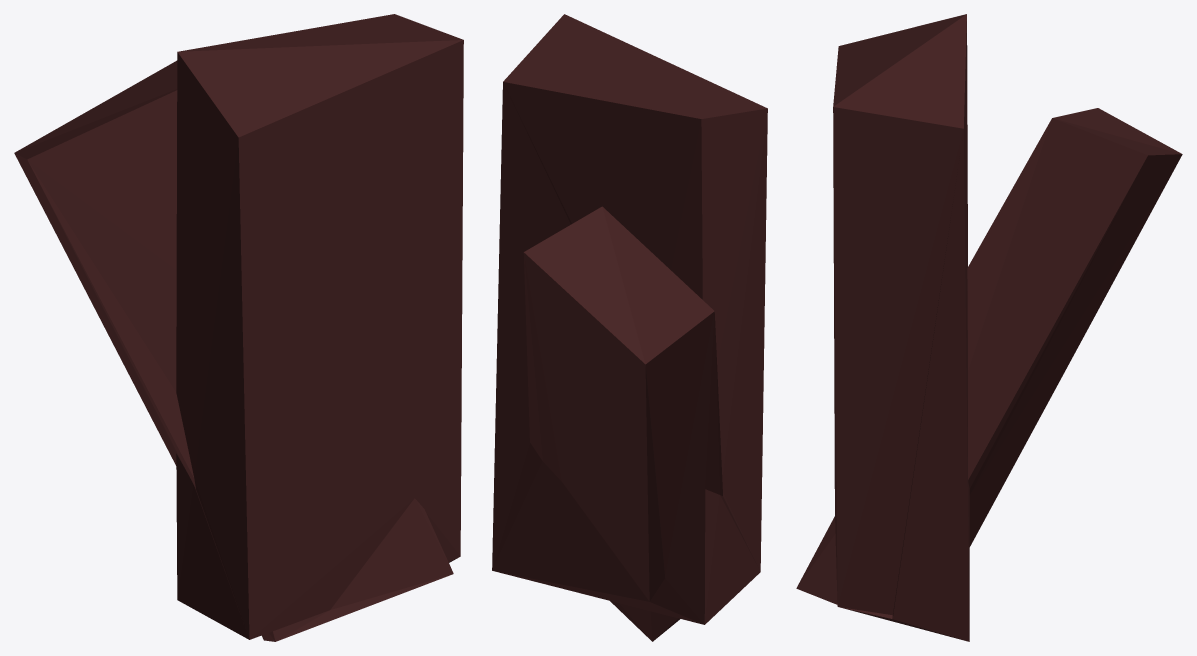
3 views of the same model, side by side, from view 1: azimuth 30°, elevation 25°; view 2: azimuth 150°, elevation 25°; view 3: azimuth 270°, elevation 25° (orthographic). The views are drawn at different scales.
Parts seen in each view (by area): view 1: 881_Cube.3562; view 2: 881_Cube.3562; view 3: 881_Cube.3562.
Boxes of the visible parts, x1,y1,x2,y2 form: 881_Cube.3562: (14, 14, 463, 641); 881_Cube.3562: (492, 14, 767, 641); 881_Cube.3562: (796, 14, 1182, 641).
Bounding box in the file's own units: 7.58 × 14.25 × 8.57.
